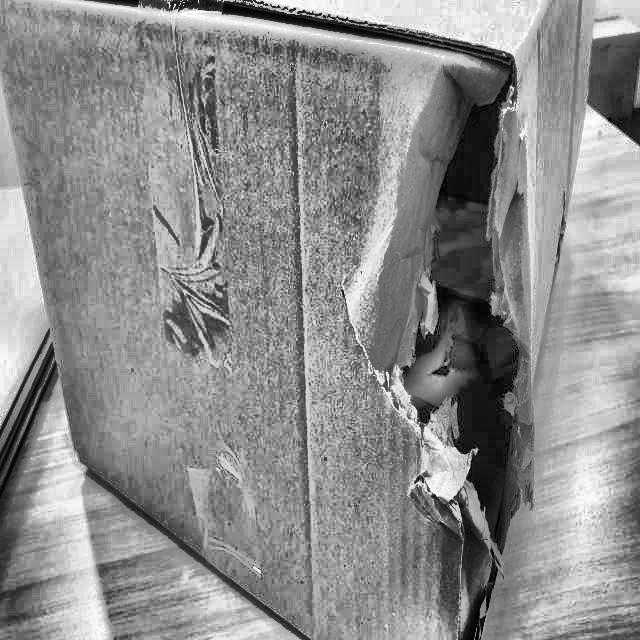box: (0, 0, 603, 639)
hole: (382, 45, 537, 524)
